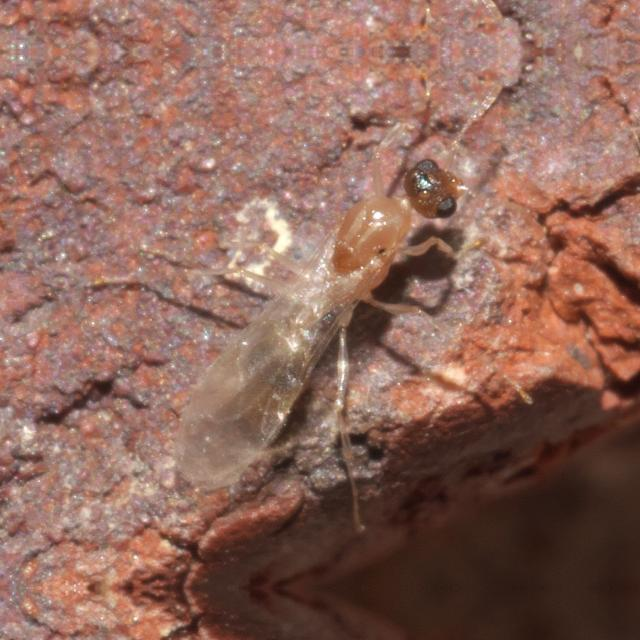Temnothorax: (191, 102, 485, 524)
